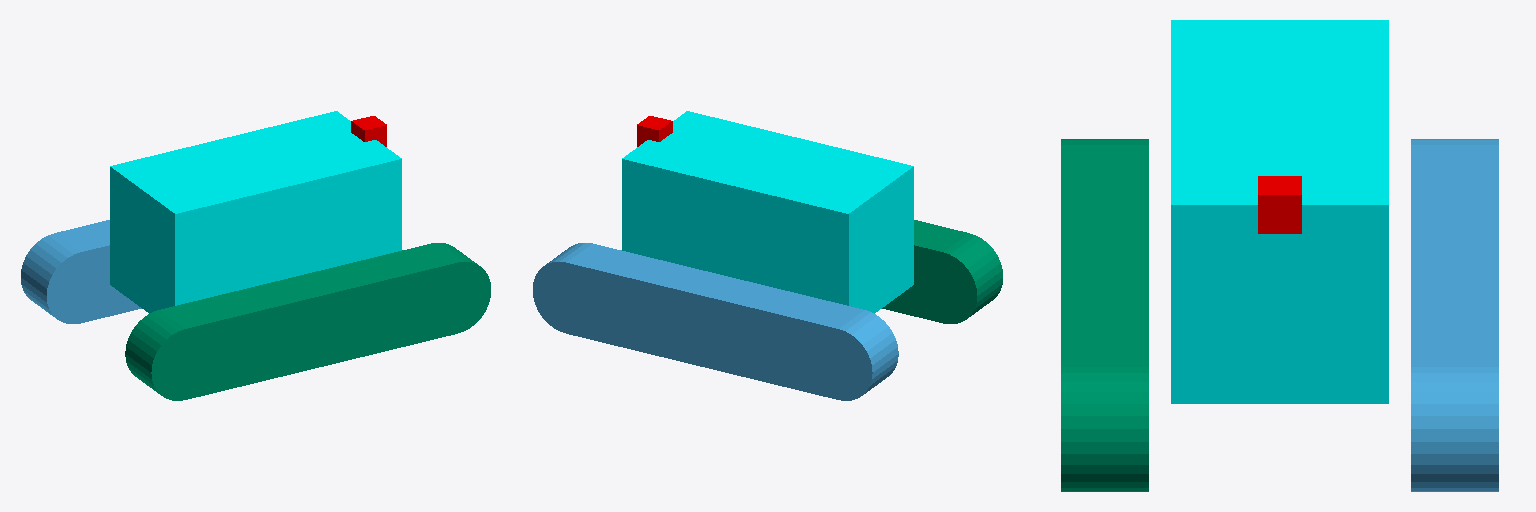
robot.urdf — lunabot_track:
<?xml version="1.0" ?>
<!-- =================================================================================== -->
<!-- |    This document was autogenerated by xacro from lunabot_tracked.xacro          | -->
<!-- |    EDITING THIS FILE BY HAND IS NOT RECOMMENDED                                 | -->
<!-- =================================================================================== -->
<robot name="lunabot_track">
  <!-- Base Footprint -->
  <!-- <link name="base_footprint">
        <origin xyz="0 0 0" rpy="0 0 0"/>
    </link> -->
  <!-- <joint name="base_j" type="fixed">
        <parent link="base_footprint"/>
        <child link="base_link"/>
        <origin xyz="0 0 ${track_height/2 + track_zoff}" rpy="0 0 0"/>
    </joint> -->
  <!-- Robot Base -->
  <link name="base_link">
    <origin rpy="0 0 0" xyz="0 0 0"/>
    <visual>
      <geometry>
        <box size="0.5 0.25 0.25"/>
      </geometry>
      <material name="Cyan">
        <color rgba="0 1.0 1.0 1.0"/>
      </material>
    </visual>
    <collision>
      <geometry>
        <box size="0.5 0.25 0.25"/>
      </geometry>
    </collision>
    <inertial>
      <origin rpy="0 0 0" xyz="0 0 0"/>
      <mass value="5"/>
      <inertia ixx="0.052083333333333336" ixy="0.0" ixz="0.0" iyy="0.13020833333333334" iyz="0.0" izz="0.13020833333333334"/>
    </inertial>
  </link>
  <link name="left_track_link">
    <visual>
      <geometry>
        <box size="0.6 0.1 0.15"/>
      </geometry>
    </visual>
    <visual>
      <origin rpy="1.5707963267948966 0 0" xyz="0.3 0 0"/>
      <geometry>
        <cylinder length="0.1" radius="0.075"/>
      </geometry>
    </visual>
    <visual>
      <origin rpy="1.5707963267948966 0 0" xyz="-0.3 0 0"/>
      <geometry>
        <cylinder length="0.1" radius="0.075"/>
      </geometry>
    </visual>
    <collision>
      <geometry>
        <box size="0.6 0.1 0.15"/>
      </geometry>
    </collision>
    <collision>
      <origin rpy="1.5707963267948966 0 0" xyz="0.3 0 0"/>
      <geometry>
        <cylinder length="0.1" radius="0.075"/>
      </geometry>
    </collision>
    <collision>
      <origin rpy="1.5707963267948966 0 0" xyz="-0.3 0 0"/>
      <geometry>
        <cylinder length="0.1" radius="0.075"/>
      </geometry>
    </collision>
    <inertial>
      <origin rpy="0 0 0" xyz="0 0 0"/>
      <mass value="2"/>
      <inertia ixx="0.005416666666666667" ixy="0.0" ixz="0.0" iyy="0.06375" iyz="0.0" izz="0.06166666666666666"/>
    </inertial>
    <gravity>1</gravity>
    <kinematic>0</kinematic>
  </link>
  <joint name="left_track_j" type="fixed">
    <parent link="base_link"/>
    <child link="left_track_link"/>
    <origin rpy="0 0 0" xyz="0 0.2 -0.13"/>
  </joint>
  <link name="right_track_link">
    <visual>
      <geometry>
        <box size="0.6 0.1 0.15"/>
      </geometry>
    </visual>
    <visual>
      <origin rpy="1.5707963267948966 0 0" xyz="0.3 0 0"/>
      <geometry>
        <cylinder length="0.1" radius="0.075"/>
      </geometry>
    </visual>
    <visual>
      <origin rpy="1.5707963267948966 0 0" xyz="-0.3 0 0"/>
      <geometry>
        <cylinder length="0.1" radius="0.075"/>
      </geometry>
    </visual>
    <collision>
      <geometry>
        <box size="0.6 0.1 0.15"/>
      </geometry>
    </collision>
    <collision>
      <origin rpy="1.5707963267948966 0 0" xyz="0.3 0 0"/>
      <geometry>
        <cylinder length="0.1" radius="0.075"/>
      </geometry>
    </collision>
    <collision>
      <origin rpy="1.5707963267948966 0 0" xyz="-0.3 0 0"/>
      <geometry>
        <cylinder length="0.1" radius="0.075"/>
      </geometry>
    </collision>
    <inertial>
      <origin rpy="0 0 0" xyz="0 0 0"/>
      <mass value="2"/>
      <inertia ixx="0.005416666666666667" ixy="0.0" ixz="0.0" iyy="0.06375" iyz="0.0" izz="0.06166666666666666"/>
    </inertial>
    <gravity>1</gravity>
    <kinematic>0</kinematic>
  </link>
  <joint name="right_track_j" type="fixed">
    <parent link="base_link"/>
    <child link="right_track_link"/>
    <origin rpy="0 0 0" xyz="0 -0.2 -0.13"/>
  </joint>
  <gazebo reference="left_track_link">
    <mu1>0.7</mu1>
    <mu2>150</mu2>
    <fdir1>0 1 0</fdir1>
  </gazebo>
  <gazebo reference="right_track_link">
    <mu1>0.7</mu1>
    <mu2>150</mu2>
    <fdir1>0 1 0</fdir1>
  </gazebo>
  <gazebo reference="left_track_j">
    <preserveFixedJoint>true</preserveFixedJoint>
  </gazebo>
  <gazebo reference="right_track_j">
    <preserveFixedJoint>true</preserveFixedJoint>
  </gazebo>
  <gazebo>
    <plugin filename="libSimpleTrackedVehiclePlugin.so" name="simple_tracked_vehicle">
      <body>base_link</body>
      <left_track>left_track_link</left_track>
      <right_track>right_track_link</right_track>
      <track_mu>100</track_mu>
      <track_mu2>100</track_mu2>
    </plugin>
    <plugin filename="libKeysToCmdVelPlugin.so" name="keyboard_control">
      <publish_as_twist>true</publish_as_twist>
      <cmd_vel_topic>~/test_bot/cmd_vel_twist</cmd_vel_topic>
    </plugin>
  </gazebo>
  <link name="depth_camera_link">
    <origin rpy="0 0 0" xyz="0 0 0"/>
    <visual>
      <geometry>
        <box size="0.05 0.05 0.05"/>
      </geometry>
      <material name="Red">
        <color rgba="1.0 0 0 1.0"/>
      </material>
    </visual>
    <collision>
      <geometry>
        <box size="0.05 0.05 0.05"/>
      </geometry>
    </collision>
    <inertial>
      <origin rpy="0 0 0" xyz="0 0 0"/>
      <mass value="0.1"/>
      <inertia ixx="4.166666666666667e-05" ixy="0.0" ixz="0.0" iyy="4.166666666666667e-05" iyz="0.0" izz="4.166666666666667e-05"/>
    </inertial>
  </link>
  <joint name="depth_camera_j" type="fixed">
    <parent link="base_link"/>
    <child link="depth_camera_link"/>
    <origin rpy="0 0 0" xyz="0.25 0 0.125"/>
  </joint>
  <link name="depth_camera_optical_link"/>
  <joint name="depth_camera_optical_j" type="fixed">
    <parent link="depth_camera_link"/>
    <child link="depth_camera_optical_link"/>
    <origin rpy="-1.5707963267948966 0 -1.5707963267948966" xyz="0 0 0"/>
  </joint>
  <gazebo reference="depth_camera_link">
    <material>Gazebo/Red</material>
    <sensor name="depth_camera" type="depth">
      <always_on>1</always_on>
      <update_rate>10</update_rate>
      <visualize>true</visualize>
      <camera>
        <horizontal_fov>1.51844</horizontal_fov>
        <image>
          <width>320</width>
          <height>320</height>
          <format>R8G8B8</format>
        </image>
        <clip>
          <near>0.05</near>
          <far>10.0</far>
        </clip>
      </camera>
      <plugin filename="libgazebo_ros_camera.so" name="depth_camera_controller">
        <frame_name>depth_camera_optical_link</frame_name>
      </plugin>
    </sensor>
  </gazebo>
  <gazebo>
    <plugin filename="libgazebo_ros_p3d.so" name="p3d_controller">
      <ros>
        <namespace>ground_truth</namespace>
        <remapping>odom:=odom</remapping>
      </ros>
      <always_on>true</always_on>
      <update_rate>50.0</update_rate>
      <body_name>base_link</body_name>
      <frame_name>map</frame_name>
      <xyz_offset>0 0 0</xyz_offset>
      <rpy_offset>0 0 0</rpy_offset>
    </plugin>
  </gazebo>
</robot>

--- What the picture shows (computed from the rendered views, not written in the file) ---
Views: 3 orthographic renders of the robot side by side, from view 1: azimuth 30°, elevation 25°; view 2: azimuth 150°, elevation 25°; view 3: azimuth 270°, elevation 25°.
Robot: lunabot_track — 5 links, 4 joints (4 fixed); root link base_link; default pose: all joints at 0.
Visible links, largest first — view 1: base_link, right_track_link, left_track_link, depth_camera_link; view 2: base_link, left_track_link, right_track_link, depth_camera_link; view 3: base_link, left_track_link, right_track_link, depth_camera_link.
Link boxes in pixels (x1,y1,x2,y2): base_link: (110, 111, 401, 313); right_track_link: (125, 243, 490, 400); left_track_link: (21, 220, 141, 323); depth_camera_link: (351, 116, 386, 146); base_link: (622, 111, 913, 313); left_track_link: (533, 243, 898, 400); right_track_link: (882, 220, 1002, 323); depth_camera_link: (637, 116, 672, 146); base_link: (1171, 20, 1388, 403); left_track_link: (1411, 139, 1498, 491); right_track_link: (1061, 139, 1148, 491); depth_camera_link: (1258, 176, 1301, 233).
Size in the robot's own frame: 0.75 by 0.5 by 0.355 metres.
Geometry: primitives only (box / cylinder / sphere), no mesh files.